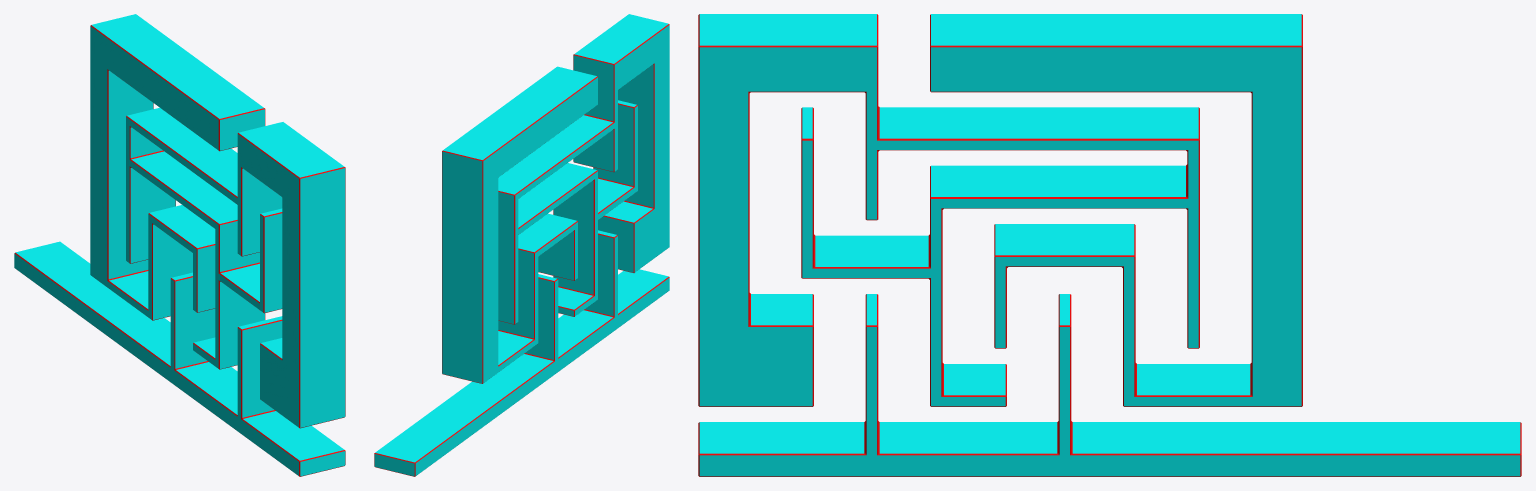
File: L11_Labyrinth.fbx
3 renders of one model, left to right at view 1: azimuth 30°, elevation 25°; view 2: azimuth 150°, elevation 25°; view 3: azimuth 270°, elevation 25°, orthographic. The views are drawn at different scales.
Parts seen in each view (by area): view 1: L11_Labyrinth; view 2: L11_Labyrinth; view 3: L11_Labyrinth.
Boxes of the visible parts, bbox=[...] form: L11_Labyrinth: bbox=[14, 14, 345, 476]; L11_Labyrinth: bbox=[374, 14, 669, 476]; L11_Labyrinth: bbox=[698, 14, 1521, 476].
Bounding box in the file's own units: 300 × 1850 × 3200.
